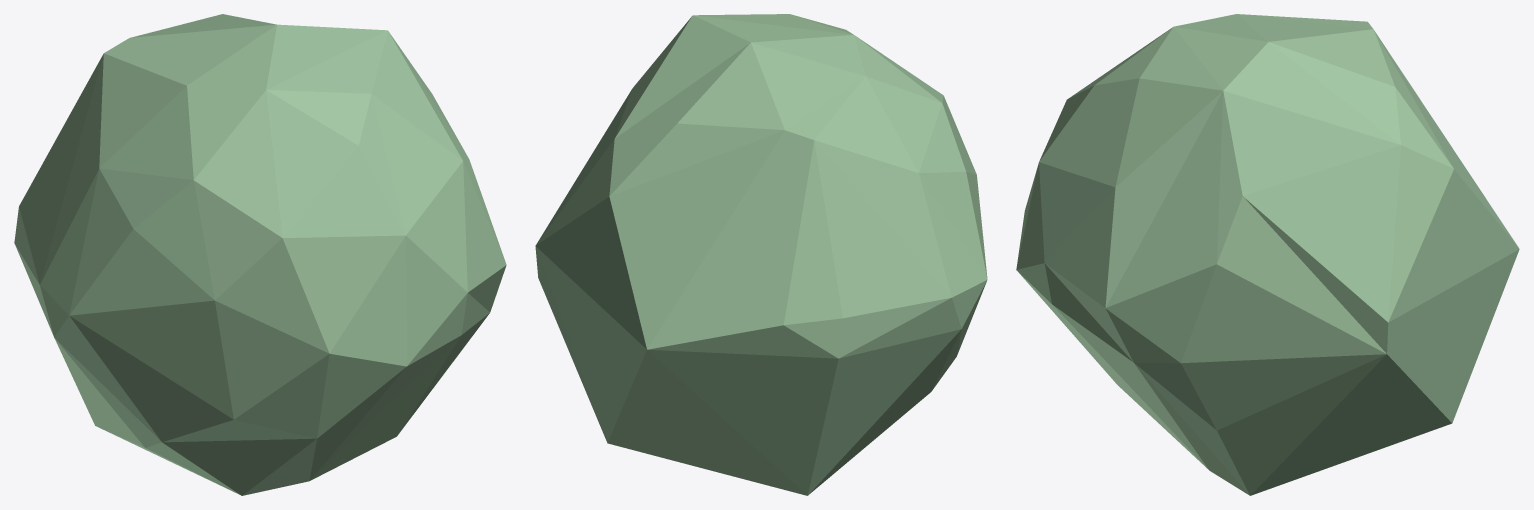
The model's file is Mystic_Bush1.fbx.
3 renders of one model, left to right at view 1: azimuth 30°, elevation 25°; view 2: azimuth 150°, elevation 25°; view 3: azimuth 270°, elevation 25°, orthographic. The views are drawn at different scales.
Parts seen in each view (by area): view 1: Mystic_Bush1; view 2: Mystic_Bush1; view 3: Mystic_Bush1.
Part boxes in pixels (x1=…): Mystic_Bush1: x1=14, y1=14, x2=506, y2=495; Mystic_Bush1: x1=535, y1=14, x2=987, y2=495; Mystic_Bush1: x1=1016, y1=14, x2=1519, y2=495.
Size of the model in its own units: 78.17 by 81.14 by 89.96.
